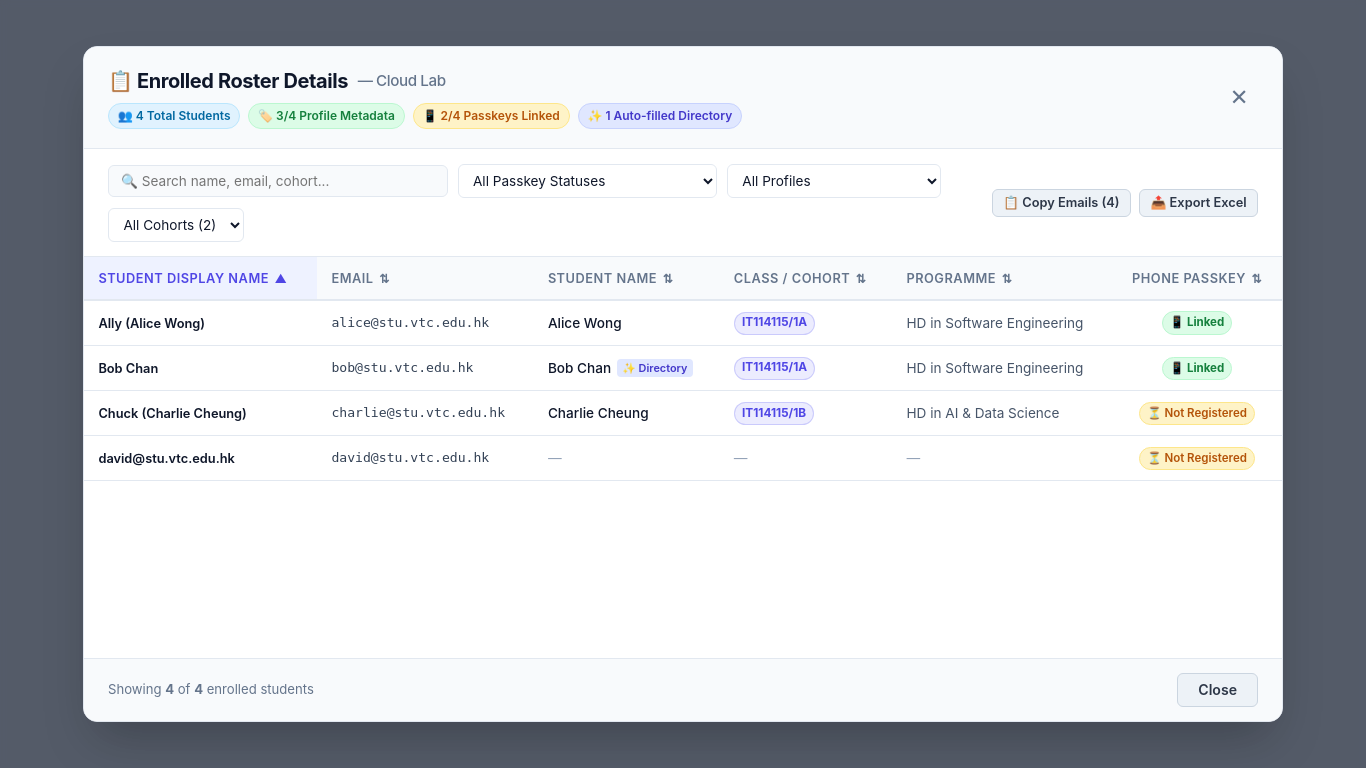
EnrolledRosterModal Component › filters students by profile metadata status and cohort dropdown
The image size is (1366, 768).
# Filter by Directory auto-filled
Select "✨ Directory Auto-filled (1)" in the dropdown with test id "roster-filter-profile" at (834, 181), box [727,164,941,198]
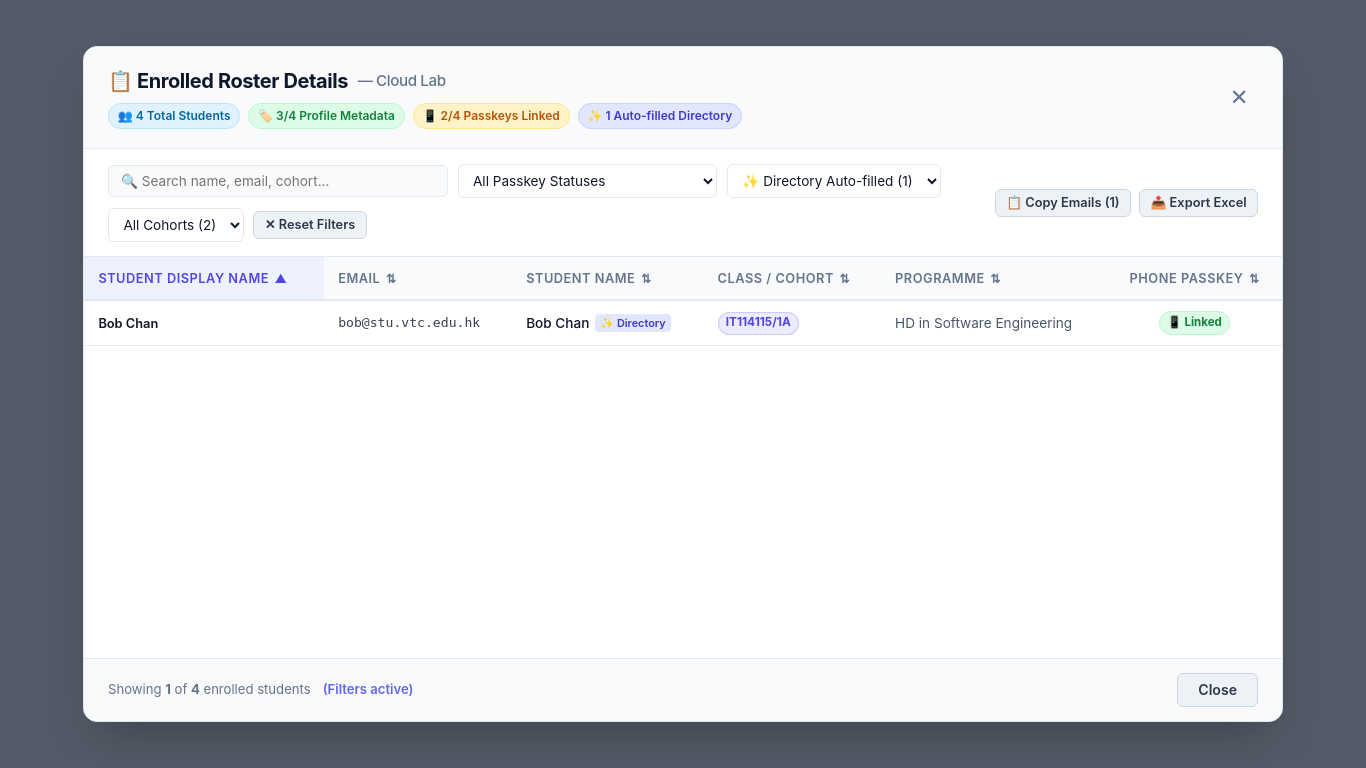
Expected: the text "bob@stu.vtc.edu.hk" is shown, [324,300,512,346]
Expected: the text "alice@stu.vtc.edu.hk" is gone
# Reset and filter by Cohort
Select "All Profiles" in the dropdown with test id "roster-filter-profile" at (834, 181), box [727,164,941,198]
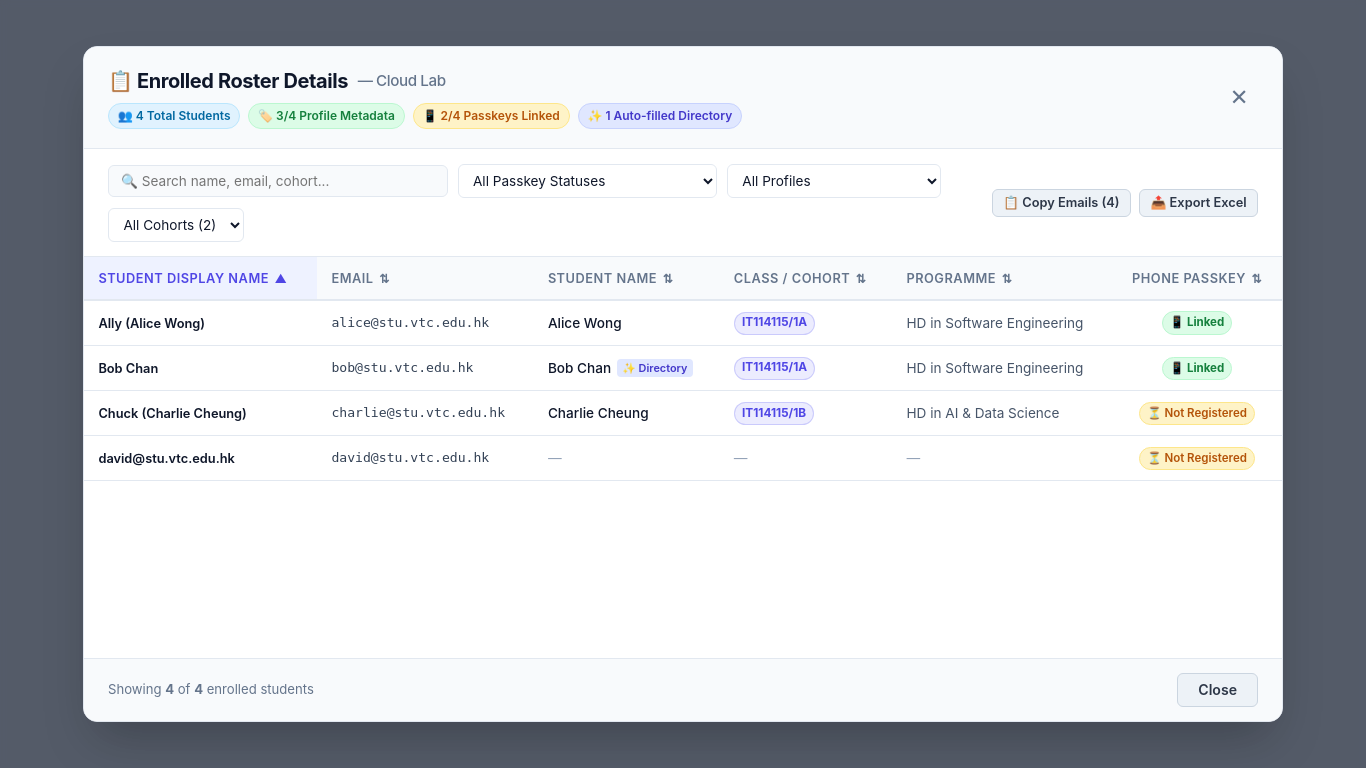
Select "IT114115/1B" in the dropdown with test id "roster-filter-cohort" at (176, 225), box [108,208,244,242]
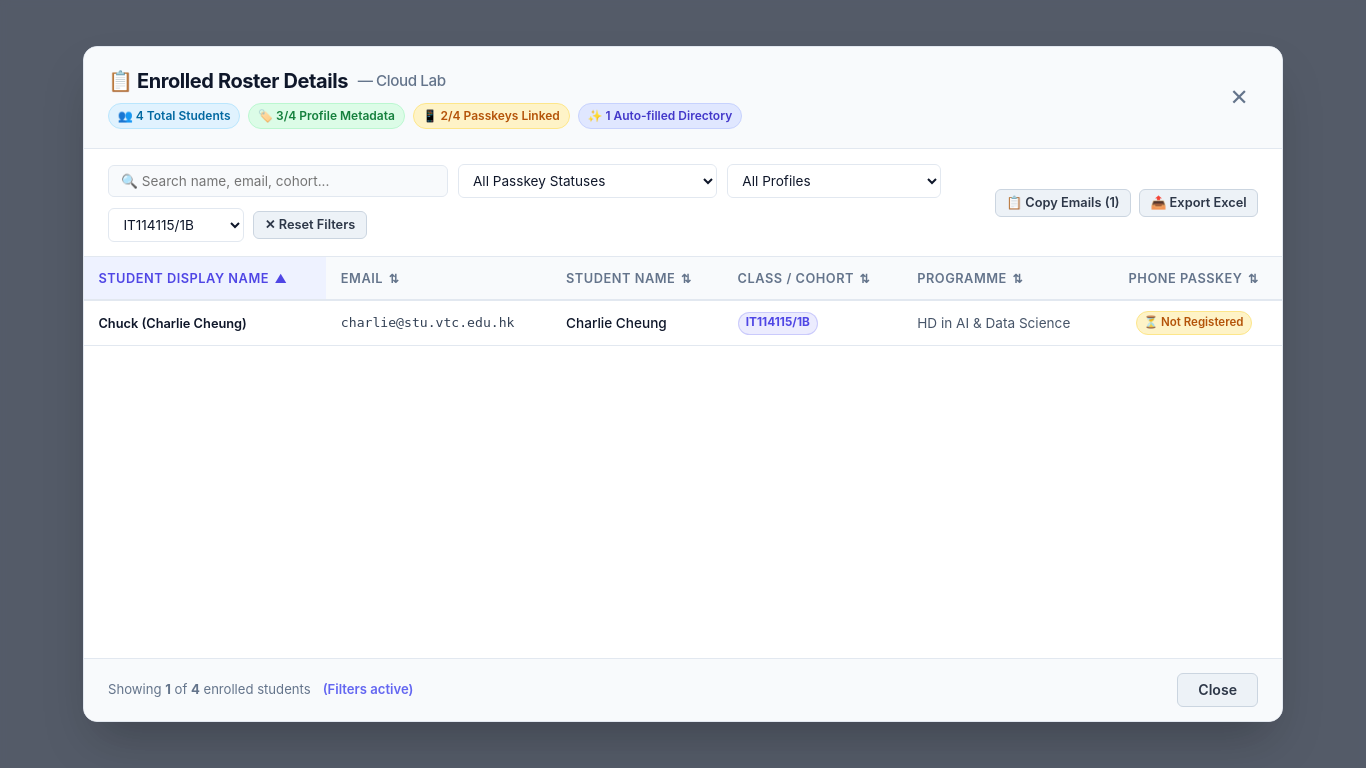
Expected: the text "charlie@stu.vtc.edu.hk" is shown, [326,300,552,346]
Expected: the text "alice@stu.vtc.edu.hk" is gone
# Reset filters button
Click the button with test id "btn-clear-roster-filters" at (310, 225), box [253,211,367,239]
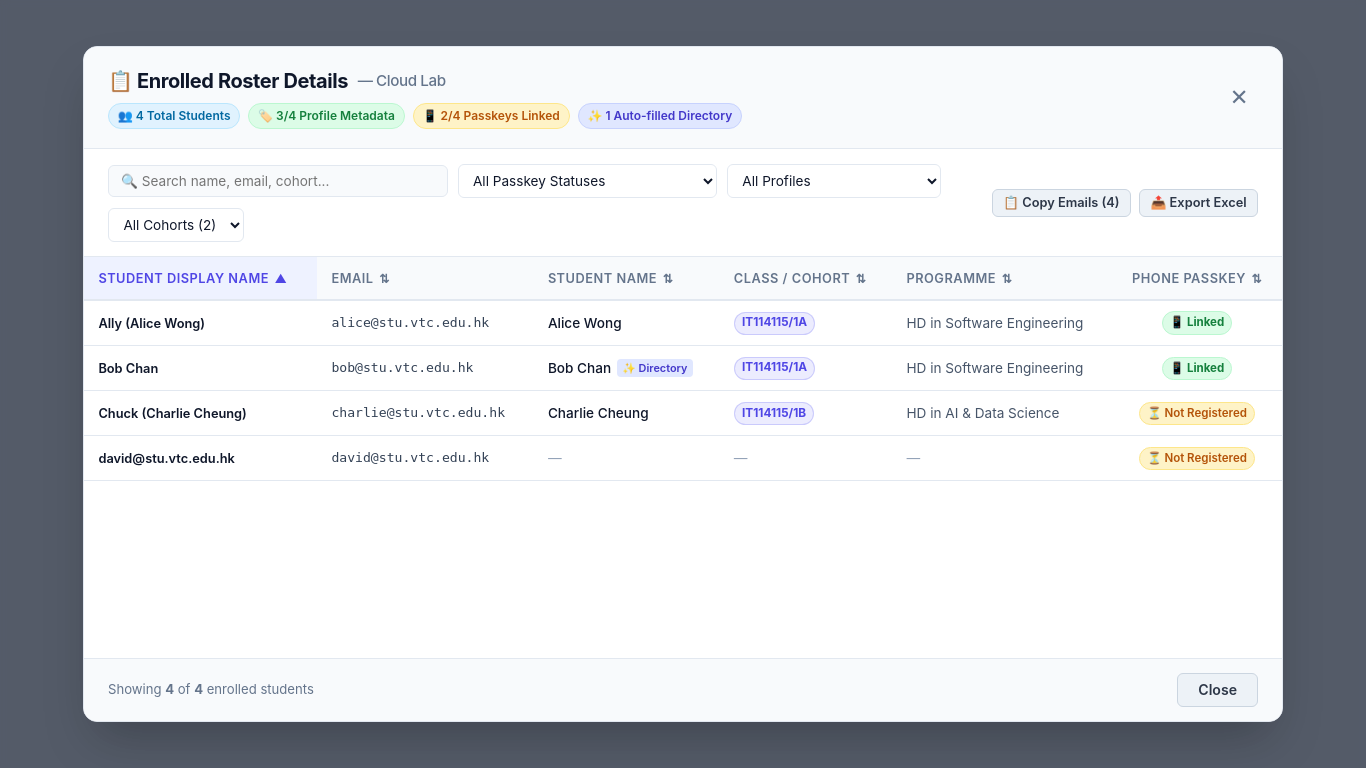
Expected: the text "alice@stu.vtc.edu.hk" is shown, [317,300,534,346]
